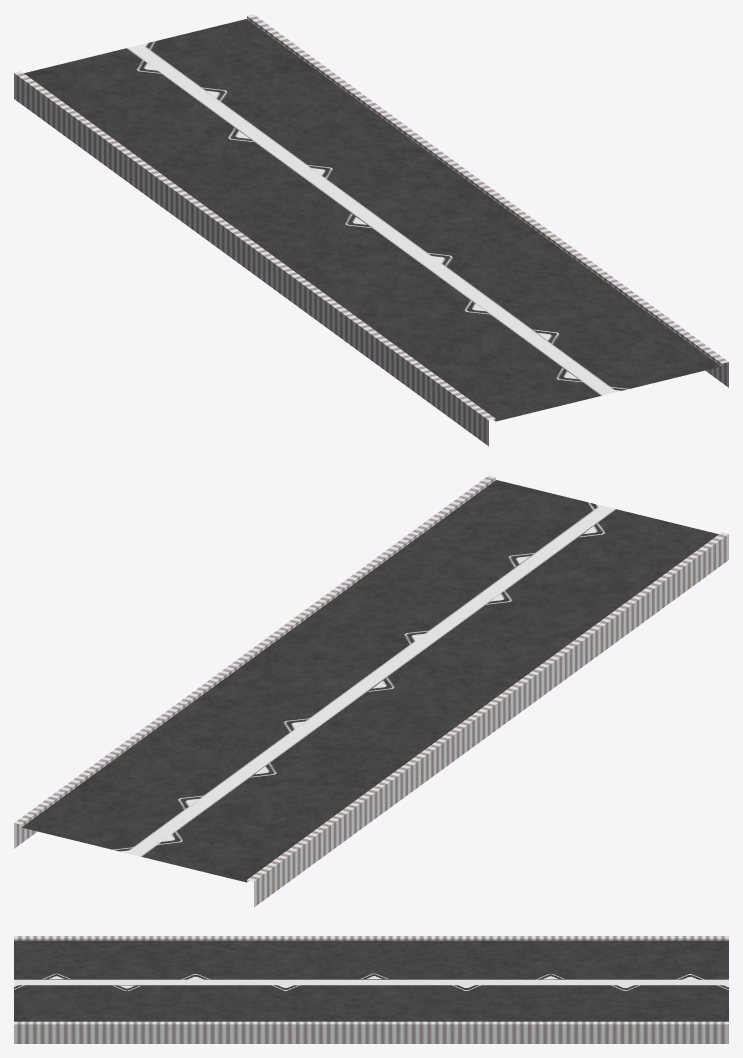
Rendered from Floor.fbx.
3 views of the same model, one above another, from view 1: azimuth 30°, elevation 25°; view 2: azimuth 150°, elevation 25°; view 3: azimuth 270°, elevation 25° (orthographic). The views are drawn at different scales.
Visible parts, largest first — view 1: Floor; view 2: Floor; view 3: Floor.
Boxes of the visible parts, x1,y1,x2,y2 form: Floor: (14,14,728,446); Floor: (14,475,728,907); Floor: (14,936,728,1043).
Size of the model in its own units: 8.75 by 29.99 by 0.9056.
1 material, 1 textured.
